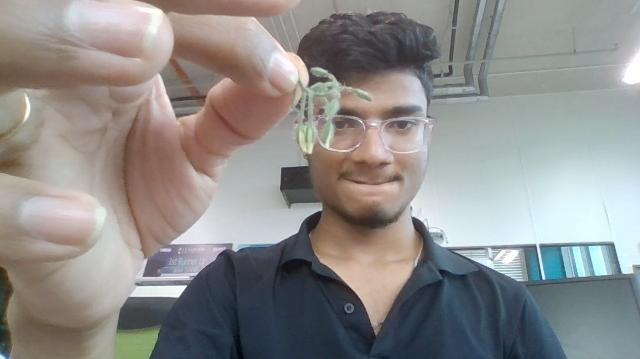Flower Bud: (297, 120, 316, 156), (341, 87, 373, 102), (309, 67, 336, 80), (322, 120, 334, 148)
